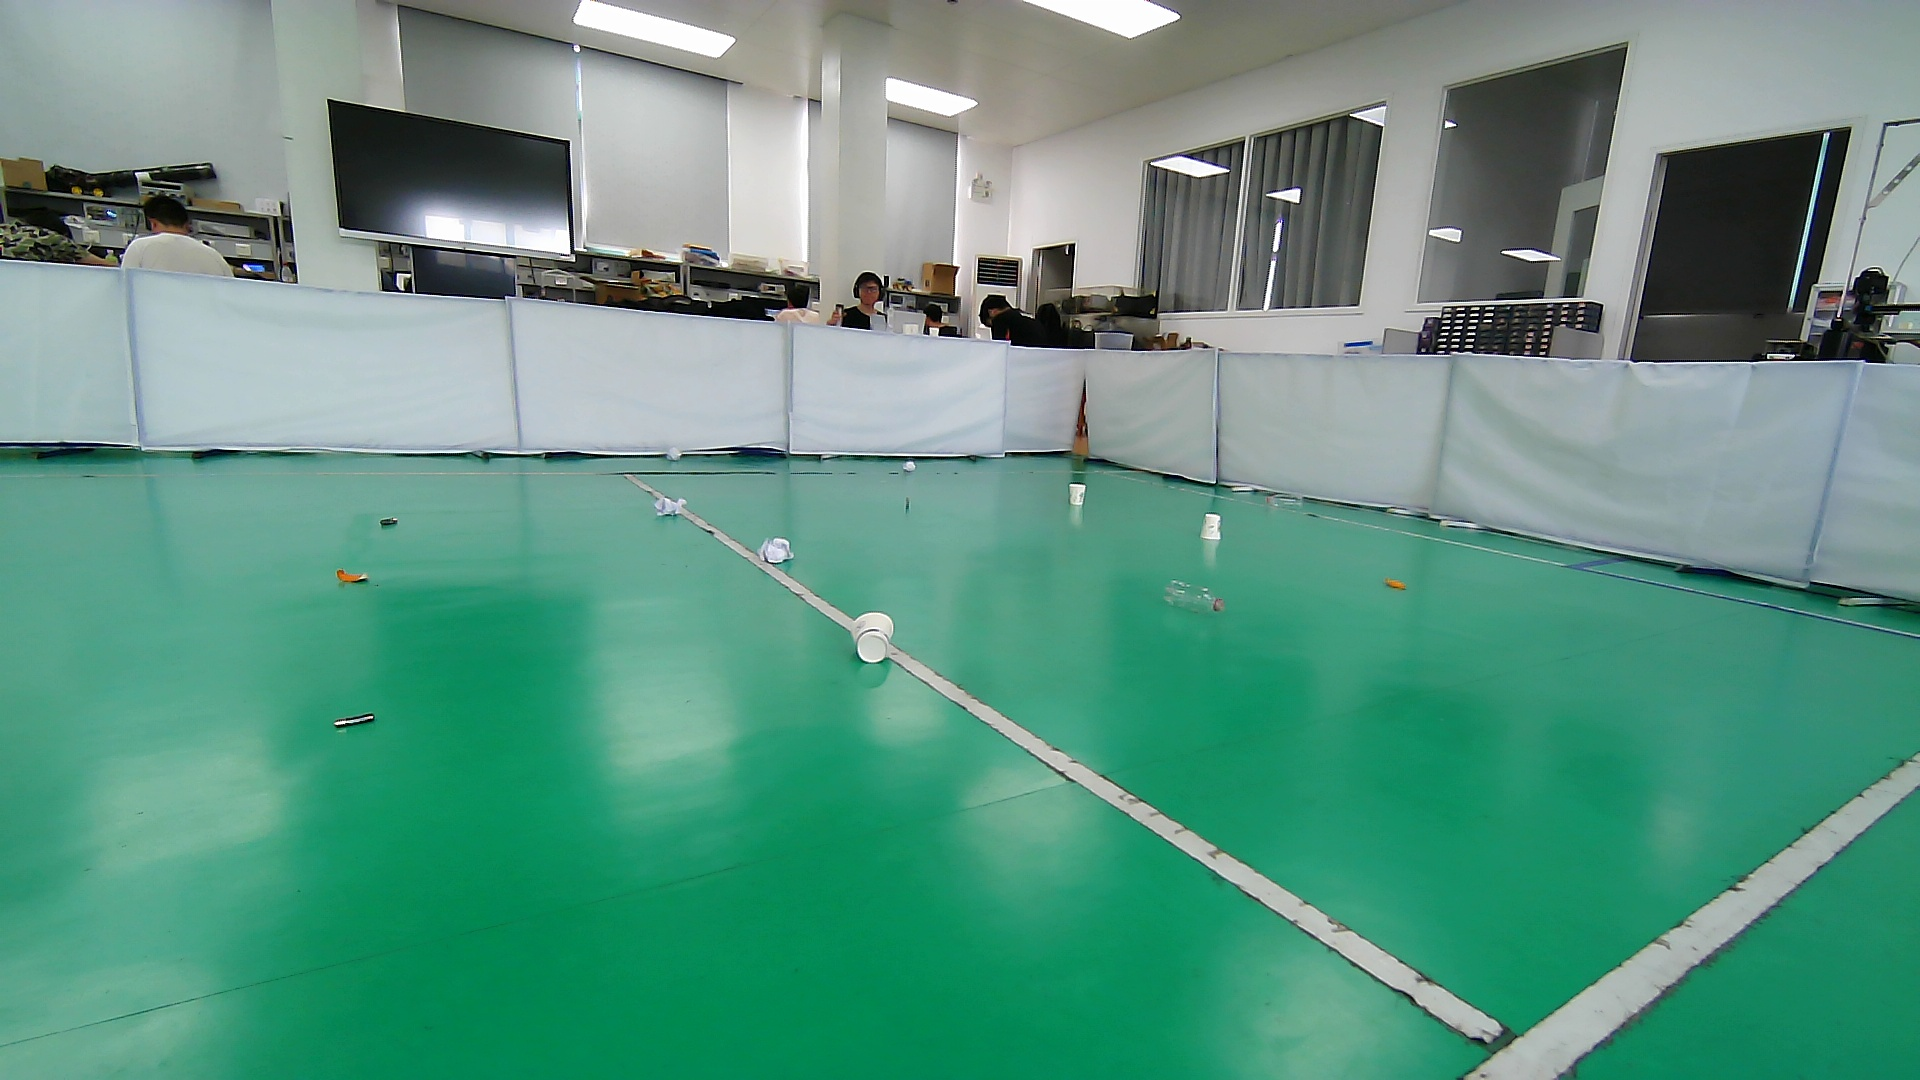battery: (323, 705, 388, 742), (371, 513, 407, 530), (899, 491, 916, 520)
bottle: (1154, 575, 1226, 622), (1263, 491, 1305, 510)
orangepeel: (328, 560, 380, 593), (1379, 574, 1414, 595)
papercup: (848, 607, 898, 665), (1196, 512, 1224, 543), (1067, 481, 1088, 509)
spitball: (757, 535, 794, 568), (651, 495, 688, 518), (901, 458, 918, 473)
